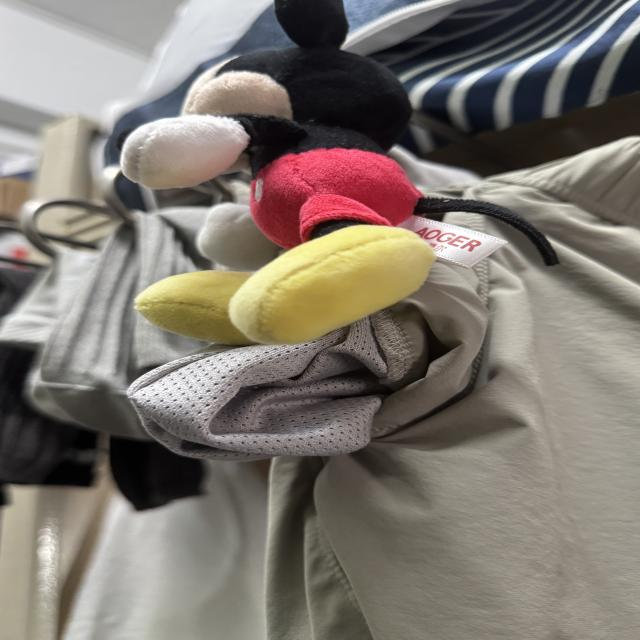mickey: (122, 0, 434, 343)
